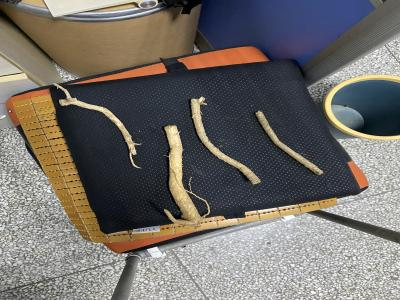Root: (54, 84, 141, 168), (191, 97, 260, 184), (164, 125, 210, 225), (256, 112, 323, 174)
